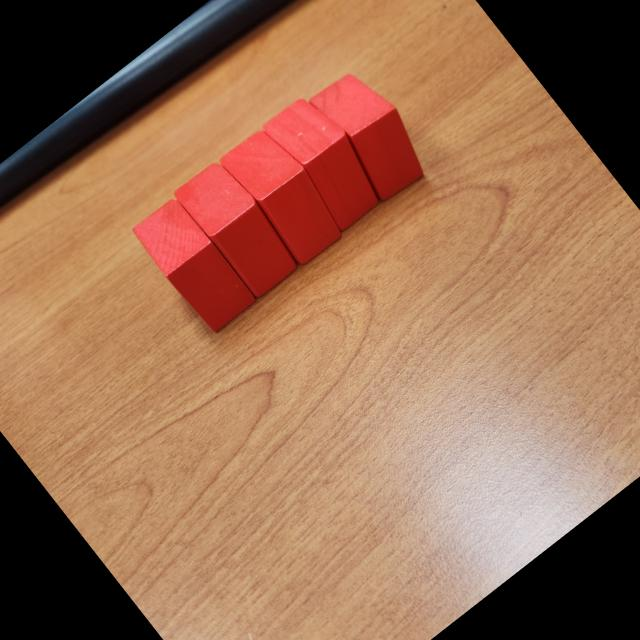red: (215, 120, 352, 268), (258, 86, 394, 233), (171, 154, 305, 302), (304, 59, 439, 204), (128, 194, 260, 338)
